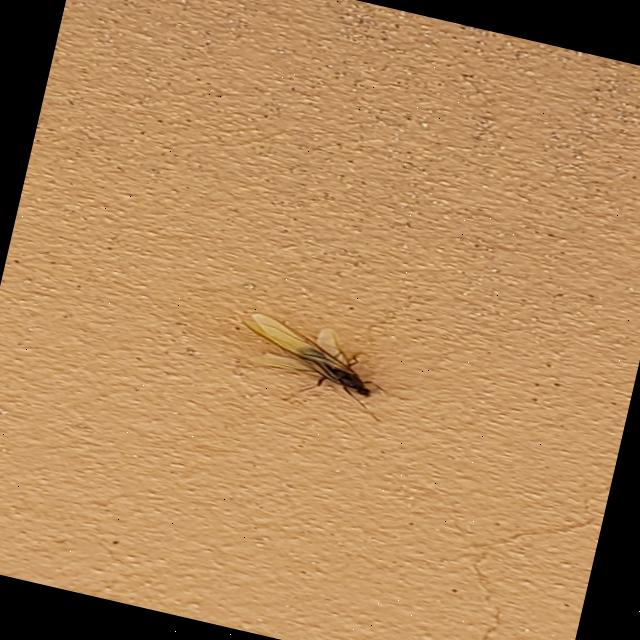Alive-Male-Alate: (225, 308, 397, 422)
